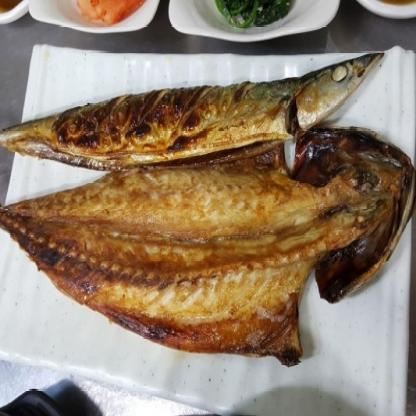Peixe: (0, 121, 416, 376)
